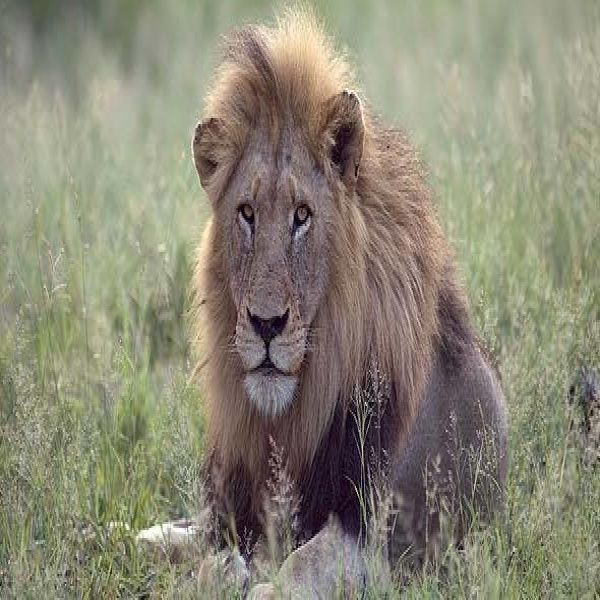Lion: (133, 10, 516, 600)
